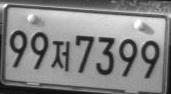3: (95, 35, 114, 76)
7: (74, 34, 94, 73)
9: (140, 39, 161, 79), (118, 38, 138, 78), (29, 31, 49, 69), (8, 29, 27, 68)
저: (51, 40, 70, 71)
